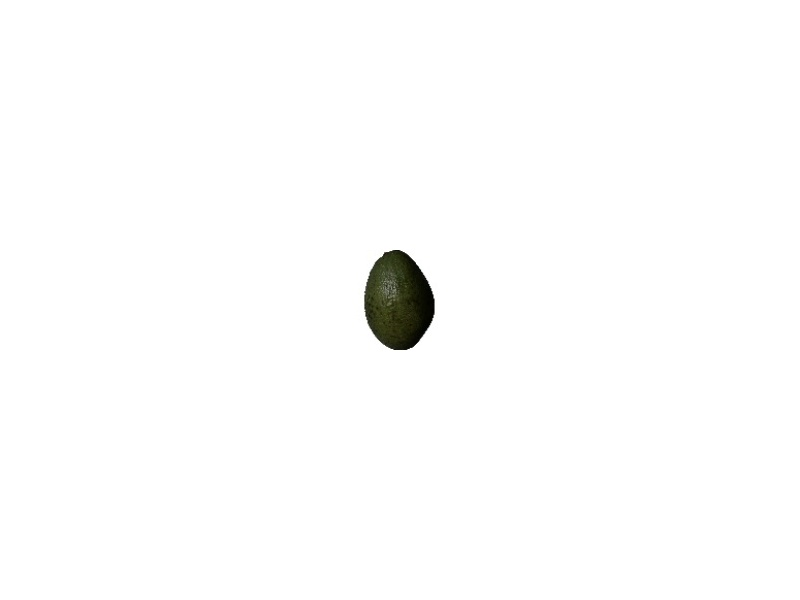abacate: (359, 249, 436, 351)
